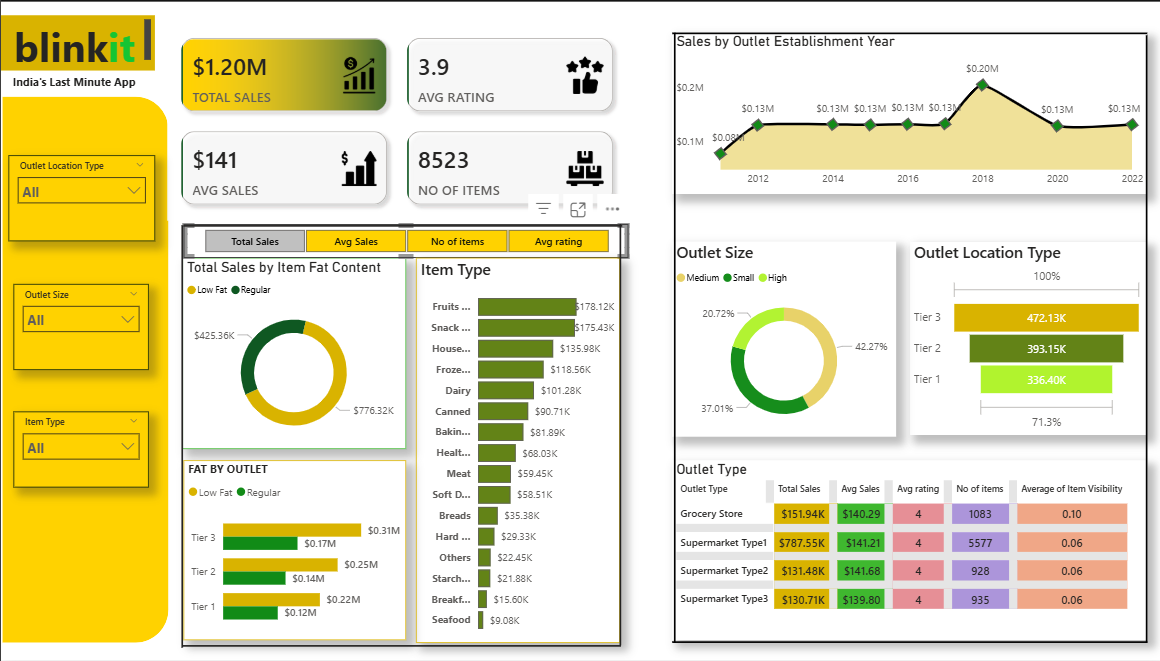

This screenshot's page, from the dashboard's own definition file:
{"tool":"powerbi","page":{"name":"Page 1","canvas":[1400,800],"ordinal":0},"visuals":[{"type":"shape","box":[1.5,123.1,199.6,655.9],"z":0},{"type":"textbox","box":[0,25.5,184.6,66],"z":1000},{"type":"textbox","box":[9,91.6,168.1,31.5],"z":2000},{"type":"cardVisual","fields":{"Data":["BlinkIT Grocery Data.Total Sales","BlinkIT Grocery Data.Avg rating","BlinkIT Grocery Data.Avg Sales","BlinkIT Grocery Data.No of items"]},"box":[199.6,36,553.8,235.6],"z":3000},{"type":"donutChart","fields":{"Y":["BlinkIT Grocery Data.Total Sales"],"Category":["BlinkIT Grocery Data.Item Fat Content"]},"box":[217.6,316.7,268.7,229.6],"z":4000},{"type":"slicer","fields":{"Values":["Metrics.Metrics"]},"box":[219.1,276.2,534.3,40.5],"z":5000},{"type":"clusteredBarChart","title":"FAT BY OUTLET","fields":{"Y":["BlinkIT Grocery Data.Total Sales"],"Category":["BlinkIT Grocery Data.Outlet Location Type"],"Series":["BlinkIT Grocery Data.Item Fat Content"]},"box":[219.1,559.8,267.2,216.1],"z":6000},{"type":"barChart","title":"Item Type","fields":{"Category":["BlinkIT Grocery Data.Item Type"],"Y":["BlinkIT Grocery Data.Total Sales"]},"box":[498.3,316.7,244.6,462.3],"z":7000},{"type":"lineChart","title":" Sales by Outlet Establishment Year","fields":{"Category":["BlinkIT Grocery Data.Outlet Establishment Year"],"Y":["BlinkIT Grocery Data.Total Sales"]},"box":[806,46.5,570.3,193.6],"z":8000},{"type":"shape","box":[717.4,276.2,52.5,505.8],"z":9000},{"type":"shape","box":[219.1,270.2,526.8,16.5],"z":10000},{"type":"shape","box":[211.6,277.7,12,507.3],"z":11000},{"type":"shape","box":[217.6,765.4,526.8,34.5],"z":12000},{"type":"donutChart","title":"Outlet Size","fields":{"Y":["BlinkIT Grocery Data.Total Sales"],"Category":["BlinkIT Grocery Data.Outlet Size"]},"box":[806,297.2,268.7,234.1],"z":13000},{"type":"funnel","title":"Outlet Location Type","fields":{"Y":["Sum(BlinkIT Grocery Data.Sales)"],"Category":["BlinkIT Grocery Data.Outlet Location Type"]},"box":[1091.1,297.2,285.2,232.6],"z":14000},{"type":"pivotTable","title":"Outlet Type","fields":{"Rows":["BlinkIT Grocery Data.Outlet Type"],"Values":["BlinkIT Grocery Data.Total Sales","BlinkIT Grocery Data.Avg Sales","BlinkIT Grocery Data.Avg rating","BlinkIT Grocery Data.No of items","Avg(BlinkIT Grocery Data.Item Visibility)"]},"box":[806,559.8,570.3,216.1],"z":15000},{"type":"shape","box":[806,25.5,570.3,43.5],"z":16000},{"type":"shape","box":[806,765.4,570.3,25.5],"z":17000},{"type":"shape","box":[797,46.5,24,732.4],"z":18000},{"type":"shape","box":[1367.3,49.5,16.5,729.4],"z":19000},{"type":"slicer","fields":{"Values":["BlinkIT Grocery Data.Outlet Location Type"]},"box":[9,193.6,175.6,103.6],"z":20000},{"type":"slicer","fields":{"Values":["BlinkIT Grocery Data.Outlet Size"]},"box":[15,348.2,162.1,103.6],"z":20001},{"type":"slicer","fields":{"Values":["BlinkIT Grocery Data.Item Type"]},"box":[15,501.3,162.1,91.6],"z":20002}]}

Visuals, with their boxes in screenshot pixels (x1, y1, x2, y2), scaled from the page's 1400x800 canvas onto the 1160x661 screenshot:
shape: left=1, top=102, right=167, bottom=644
textbox: left=0, top=21, right=153, bottom=76
textbox: left=7, top=76, right=147, bottom=102
cardVisual - BlinkIT Grocery Data.Total Sales x BlinkIT Grocery Data.Avg rating: left=165, top=30, right=624, bottom=224
donutChart - BlinkIT Grocery Data.Total Sales x BlinkIT Grocery Data.Item Fat Content: left=180, top=262, right=403, bottom=451
slicer - Metrics.Metrics: left=182, top=228, right=624, bottom=262
"FAT BY OUTLET" clusteredBarChart: left=182, top=463, right=403, bottom=641
"Item Type" barChart: left=413, top=262, right=616, bottom=644
" Sales by Outlet Establishment Year" lineChart: left=668, top=38, right=1140, bottom=198
shape: left=594, top=228, right=638, bottom=646
shape: left=182, top=223, right=618, bottom=237
shape: left=175, top=229, right=185, bottom=649
shape: left=180, top=632, right=617, bottom=660
"Outlet Size" donutChart: left=668, top=246, right=890, bottom=439
"Outlet Location Type" funnel: left=904, top=246, right=1140, bottom=438
"Outlet Type" pivotTable: left=668, top=463, right=1140, bottom=641
shape: left=668, top=21, right=1140, bottom=57
shape: left=668, top=632, right=1140, bottom=653
shape: left=660, top=38, right=680, bottom=644
shape: left=1133, top=41, right=1147, bottom=644
slicer - BlinkIT Grocery Data.Outlet Location Type: left=7, top=160, right=153, bottom=246
slicer - BlinkIT Grocery Data.Outlet Size: left=12, top=288, right=147, bottom=373
slicer - BlinkIT Grocery Data.Item Type: left=12, top=414, right=147, bottom=490
